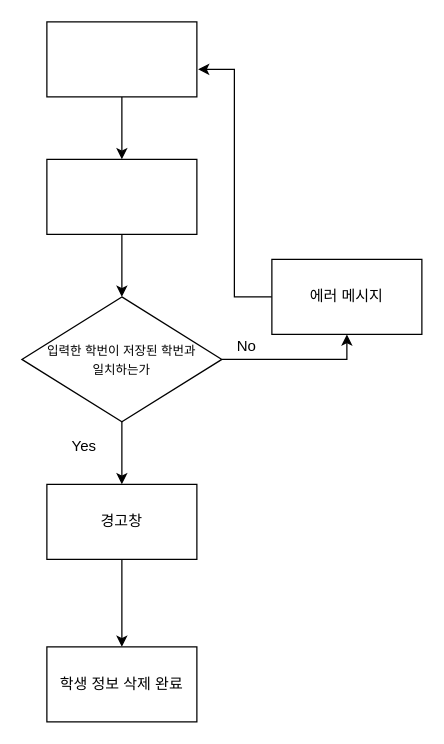
Image size: 444x744. Some labels were removed from this diagram. The shapes that lost their labels are listed below. From the top down, each one's centre as x and y in pixels, then its label:
the point at 121,59: Start
the point at 121,196: 학생 정보 삭제
